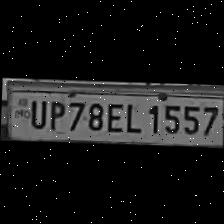1: (140, 98, 160, 134)
5: (158, 99, 180, 134), (180, 99, 200, 134)
7: (62, 95, 84, 130), (198, 101, 218, 136)
8: (84, 98, 104, 132)
E: (103, 97, 123, 132)
L: (122, 97, 142, 132)
P: (44, 95, 64, 131)
U: (24, 95, 46, 128)
